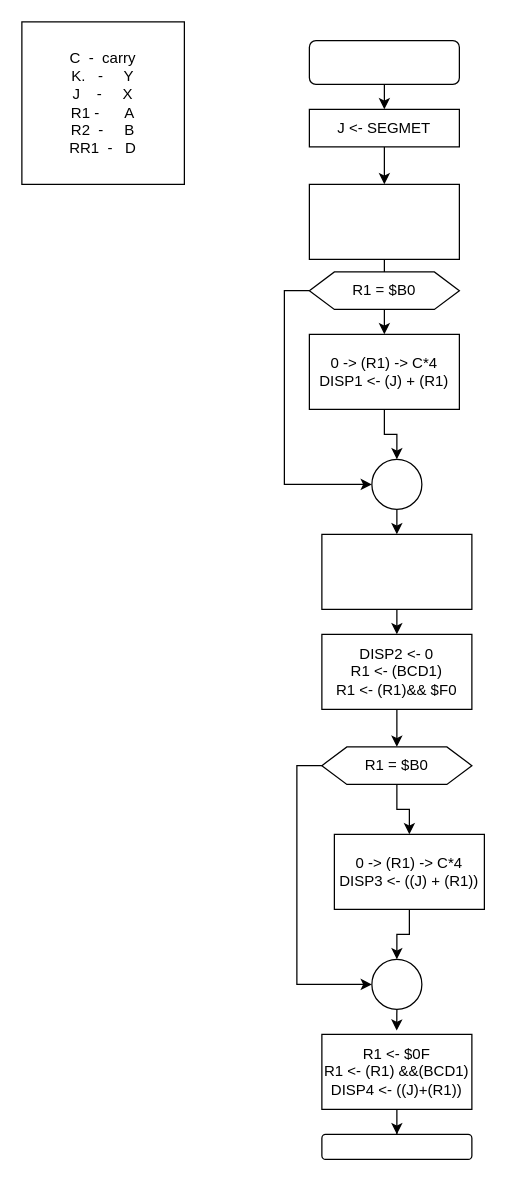
The diagram is 506 pixels wide and 1181 high, and some of its shapes have lost their labels. Here are the shapes that lost their labels. From the top down, the centre of each, then its label:
the point at 383,61: BCD_7SEG
the point at 383,221: DISP1 <- 0 R1 <- (BCD2) R1 <- (R1)&&$F0
the point at 396,571: R1 <- (BCD2) R1 <- (R1) && $0F DISP2 <- ((J)+(R1))
the point at 396,1146: RETURN
